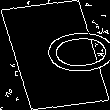O_W: (9, 29, 101, 81)
